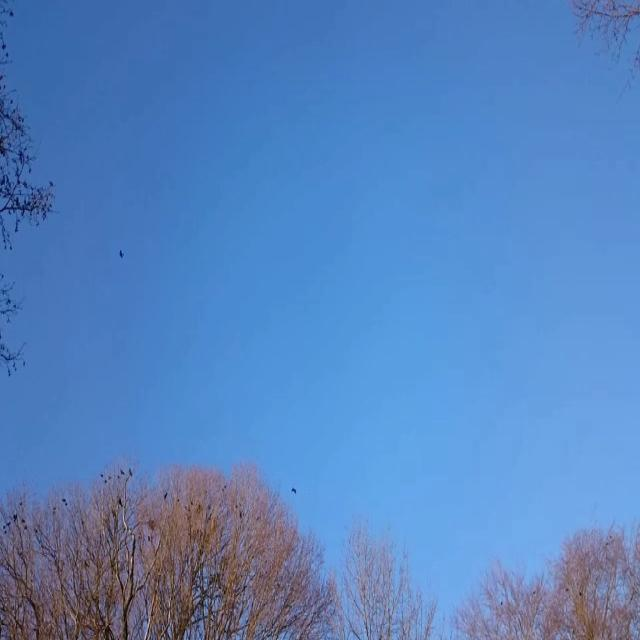bird: (288, 481, 300, 499), (116, 244, 127, 260)
